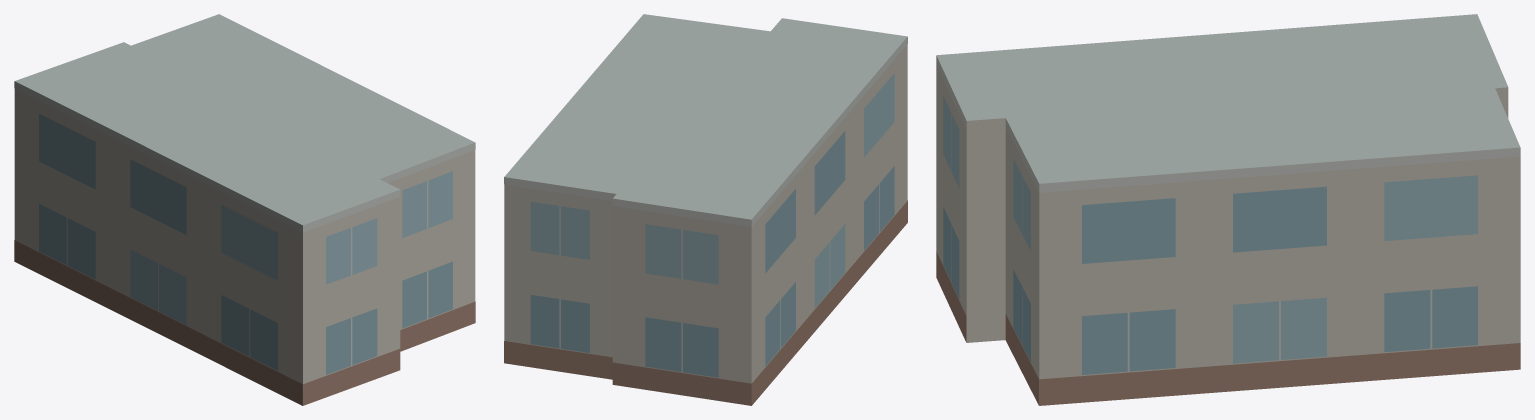
File: survey-upis-32810711.glb
The picture shows the model from 3 angles, left to right: view 1: azimuth 30°, elevation 25°; view 2: azimuth 150°, elevation 25°; view 3: azimuth 270°, elevation 25°; orthographic projection. The views are drawn at different scales.
Visible parts, largest first — view 1: survey-upis-32810711.tmp; view 2: survey-upis-32810711.tmp; view 3: survey-upis-32810711.tmp.
Boxes of the visible parts, x1,y1,x2,y2 form: survey-upis-32810711.tmp: (14,14,475,405); survey-upis-32810711.tmp: (504,14,907,405); survey-upis-32810711.tmp: (936,14,1520,405).
Bounding box in the file's own units: 10.01 × 6.1 × 14.56.
